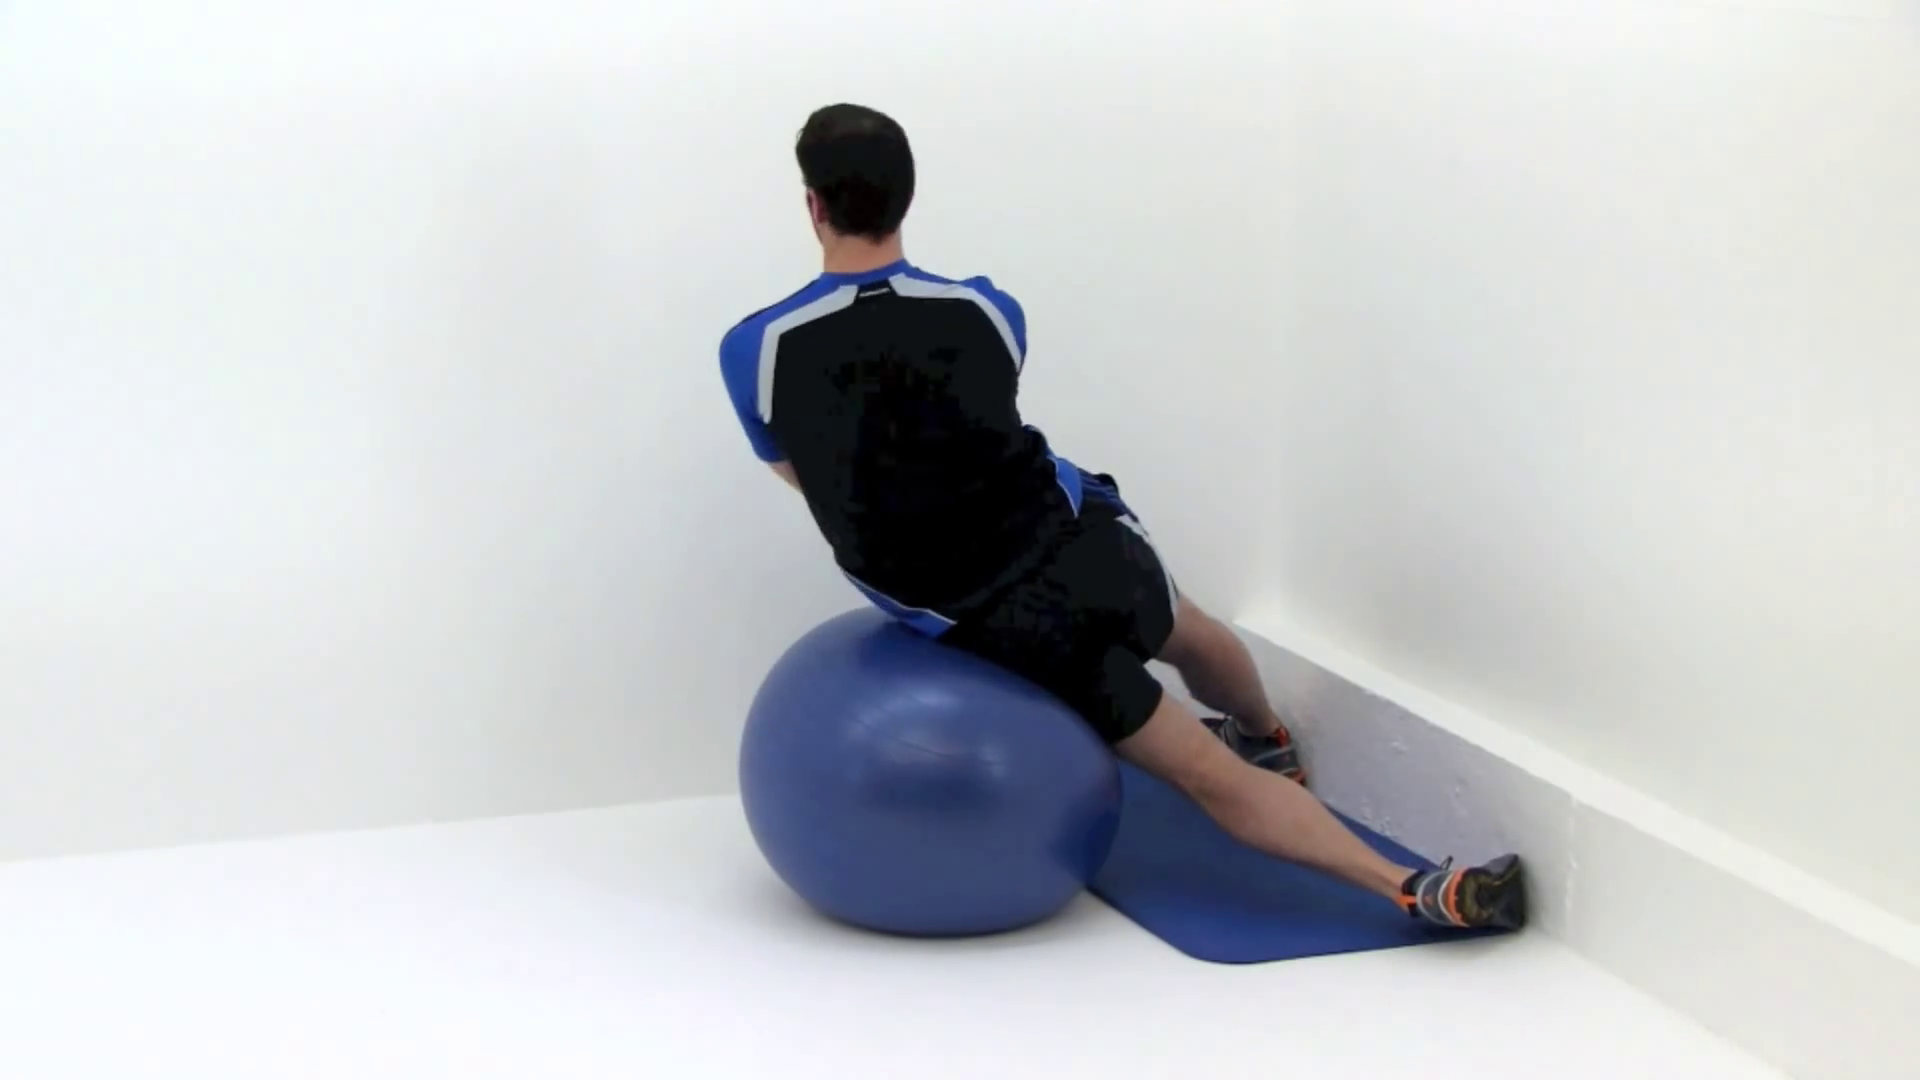yogaball: (727, 595, 1143, 963)
